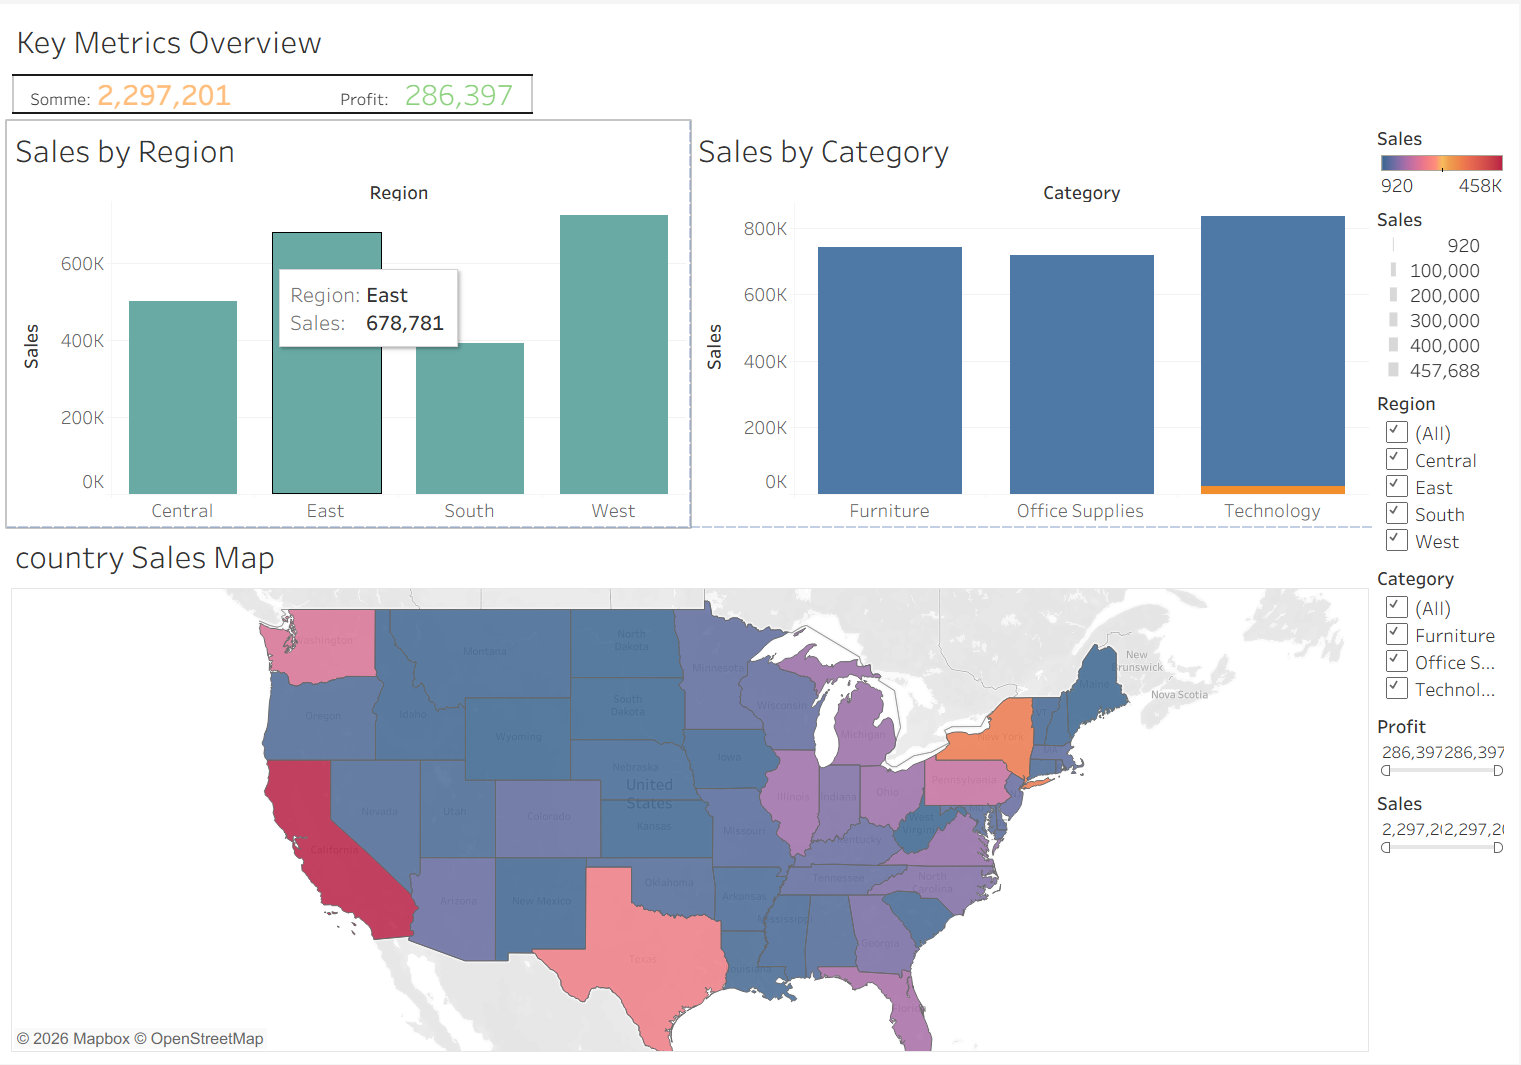

The page's visual inventory and layout, read from the dashboard file:
{"tool":"tableau","page":{"name":"Dashboard 1","canvas":[1000,1000],"units":"permille","ordinal":0},"visuals":[{"type":"worksheet","title":"Key Metrics Overview  ","mark":"Text","box":[5.3,7.5,989.5,101.9]},{"type":"worksheet","title":"Sales by Region  ","mark":"Automatic","rows":["Sales"],"cols":["Region"],"box":[5.3,110.4,449.3,382.9]},{"type":"worksheet","title":"Sales by Category ","mark":"Automatic","rows":["Sales"],"cols":["Category"],"box":[454.5,110.4,449.4,382.9]},{"type":"legend","title":"country Sales Map  ","param":"[federated.1p0xk3q063hnrb12thely1deezn9].[sum:Sales:qk]","box":[904,110.4,90.8,76.4]},{"type":"legend","title":"country Sales Map  ","param":"[federated.1p0xk3q063hnrb12thely1deezn9].[sum:Sales:qk]","box":[904,186.8,90.8,173.6]},{"type":"filter","title":"Sales by Region  ","param":"[federated.1p0xk3q063hnrb12thely1deezn9].[none:Region:nk]","box":[904,360.4,90.8,165.1]},{"type":"worksheet","title":"country Sales Map  ","mark":"Multipolygon","box":[5.3,493.2,898.7,499.2]},{"type":"filter","title":"Sales by Category ","param":"[federated.1p0xk3q063hnrb12thely1deezn9].[none:Category:nk]","box":[904,525.5,90.8,139.6]},{"type":"filter","title":"Key Metrics Overview  ","param":"[federated.1p0xk3q063hnrb12thely1deezn9].[sum:Profit:qk]","box":[904,665.1,90.8,72.6]},{"type":"filter","title":"Key Metrics Overview  ","param":"[federated.1p0xk3q063hnrb12thely1deezn9].[sum:Sales:qk]","box":[904,737.8,90.8,72.6]}]}

Visuals, with their boxes on the dashboard's canvas, which has no fixed pixel size, in thousandths of its width and height (x1, y1, x2, y2). These are canvas units, not pixel positions in the 1521x1065 screenshot, which may show the page scaled, cropped or inside an application window:
"Key Metrics Overview  " worksheet (Text marks): pyautogui.locateOnScreen(5, 8, 995, 109)
"Sales by Region  " worksheet: pyautogui.locateOnScreen(5, 110, 455, 493)
"Sales by Category " worksheet: pyautogui.locateOnScreen(454, 110, 904, 493)
"country Sales Map  " legend: pyautogui.locateOnScreen(904, 110, 995, 187)
"country Sales Map  " legend: pyautogui.locateOnScreen(904, 187, 995, 360)
"Sales by Region  " filter: pyautogui.locateOnScreen(904, 360, 995, 526)
"country Sales Map  " worksheet (Multipolygon marks): pyautogui.locateOnScreen(5, 493, 904, 992)
"Sales by Category " filter: pyautogui.locateOnScreen(904, 526, 995, 665)
"Key Metrics Overview  " filter: pyautogui.locateOnScreen(904, 665, 995, 738)
"Key Metrics Overview  " filter: pyautogui.locateOnScreen(904, 738, 995, 810)
